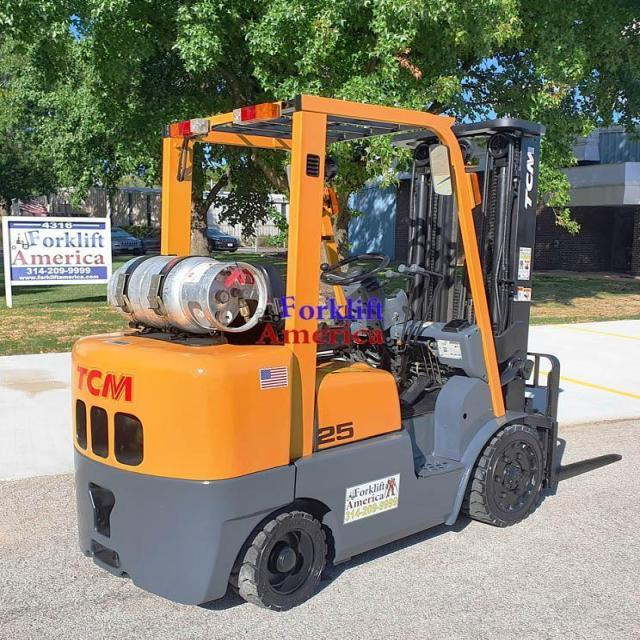forklift: (48, 85, 580, 624)
